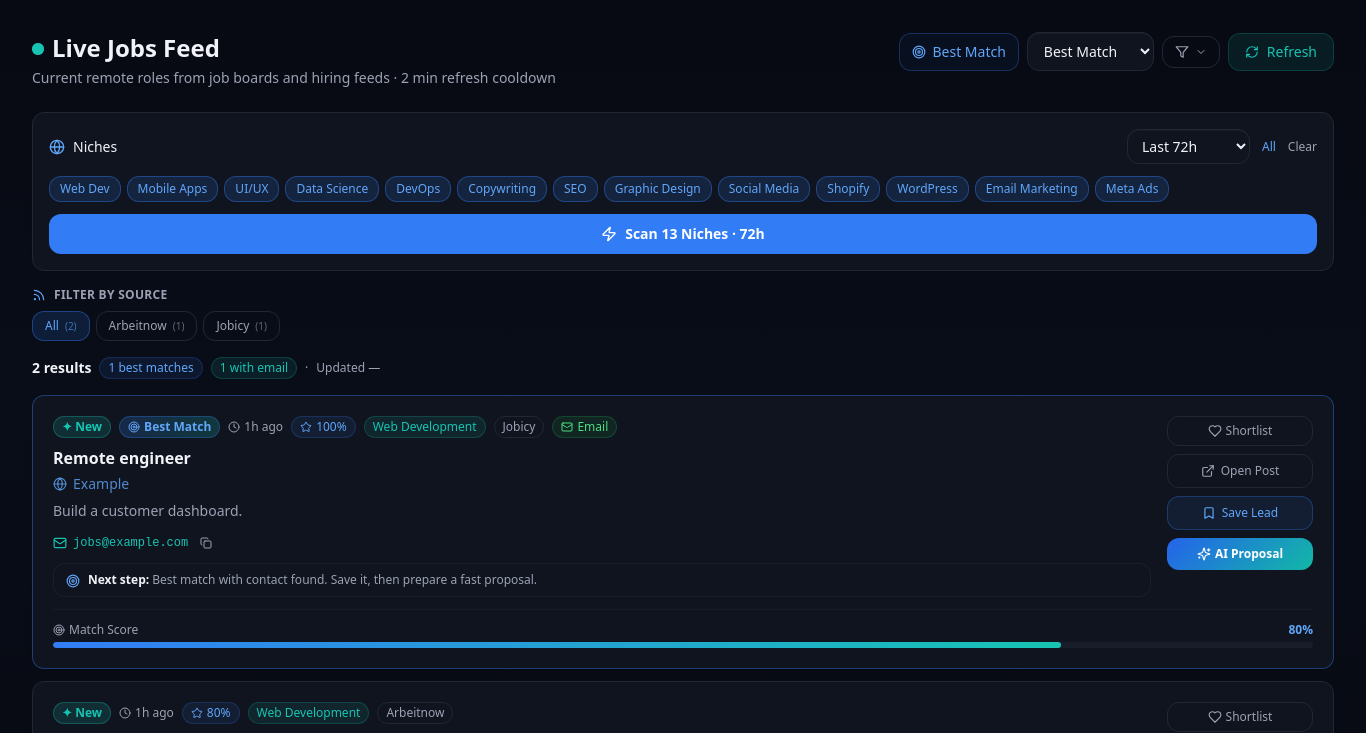
it: counts emails and best matches only in the displayed result set
Expected: the text "1 with email" is shown, x1=211 y1=357 x2=297 y2=379
Expected: the text "1 best matches" is shown, x1=100 y1=357 x2=203 y2=379
Click the button "Arbeitnow (1)": (146, 326) x1=96 y1=311 x2=197 y2=341
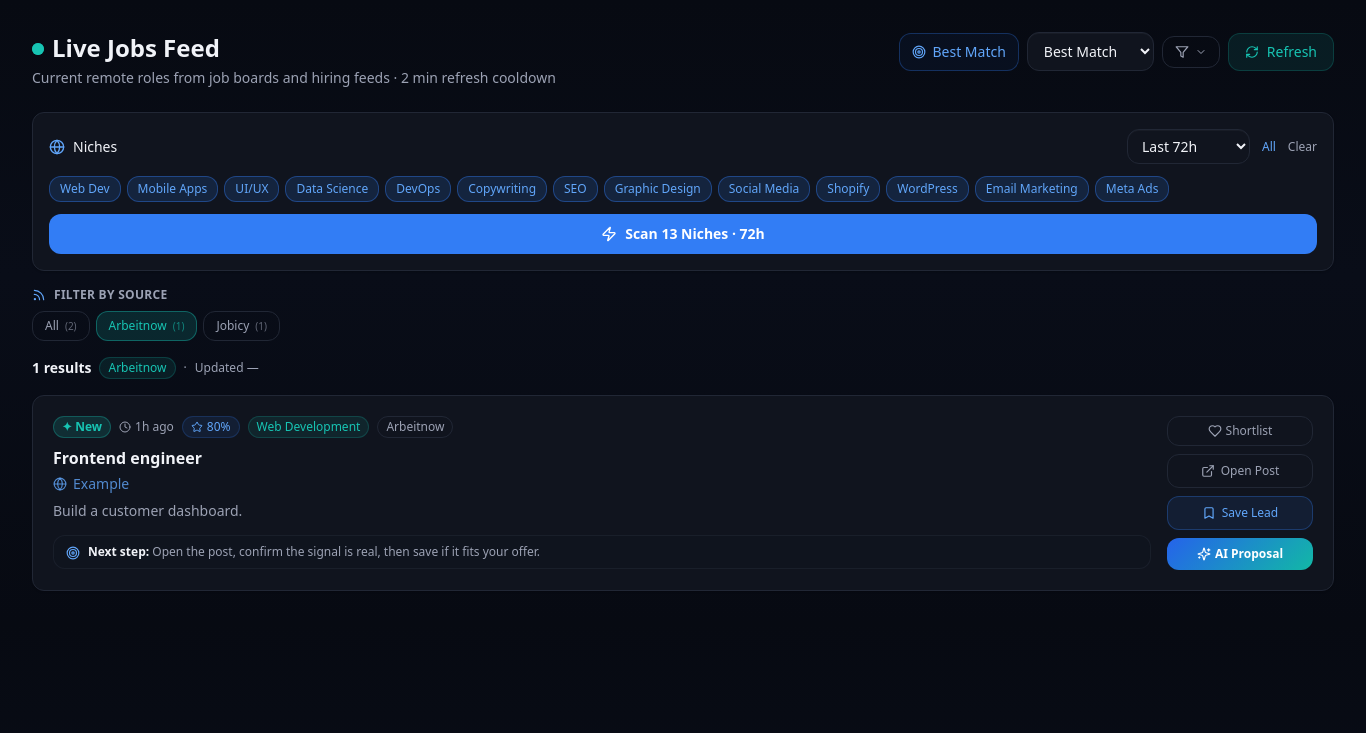
Expected: the heading "Frontend engineer" is shown, x1=53 y1=447 x2=202 y2=469
Now the text "1 with email" is gone
Now the text "1 best matches" is gone
